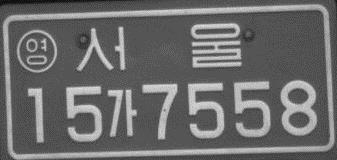1: (23, 84, 48, 146)
5: (62, 84, 105, 142), (186, 79, 224, 142), (231, 79, 271, 138)
7: (137, 81, 181, 142)
8: (279, 78, 319, 136)
가: (105, 87, 140, 139)
서울_D: (72, 21, 244, 73)
영: (14, 28, 57, 74)
